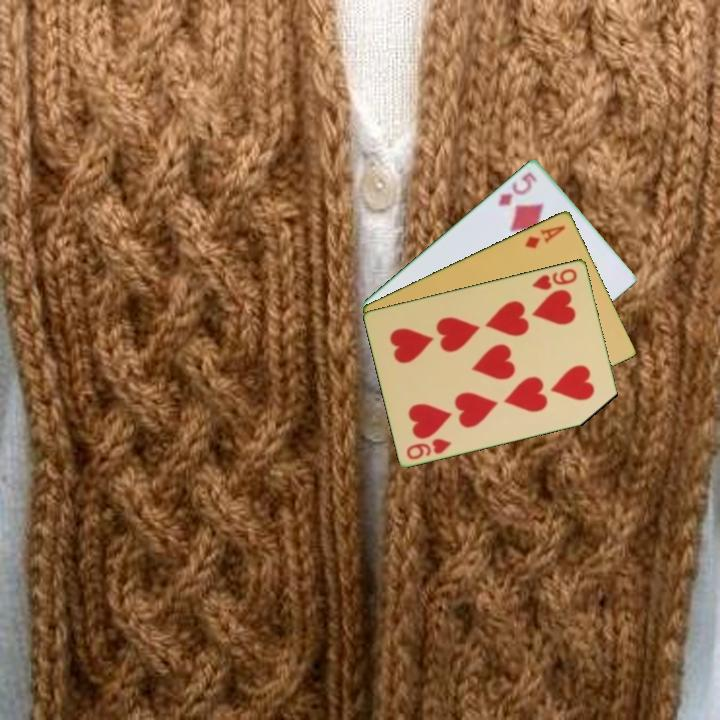5d: (494, 168, 541, 210)
9h: (403, 434, 455, 462), (529, 265, 580, 293)
Ad: (522, 221, 568, 251)
